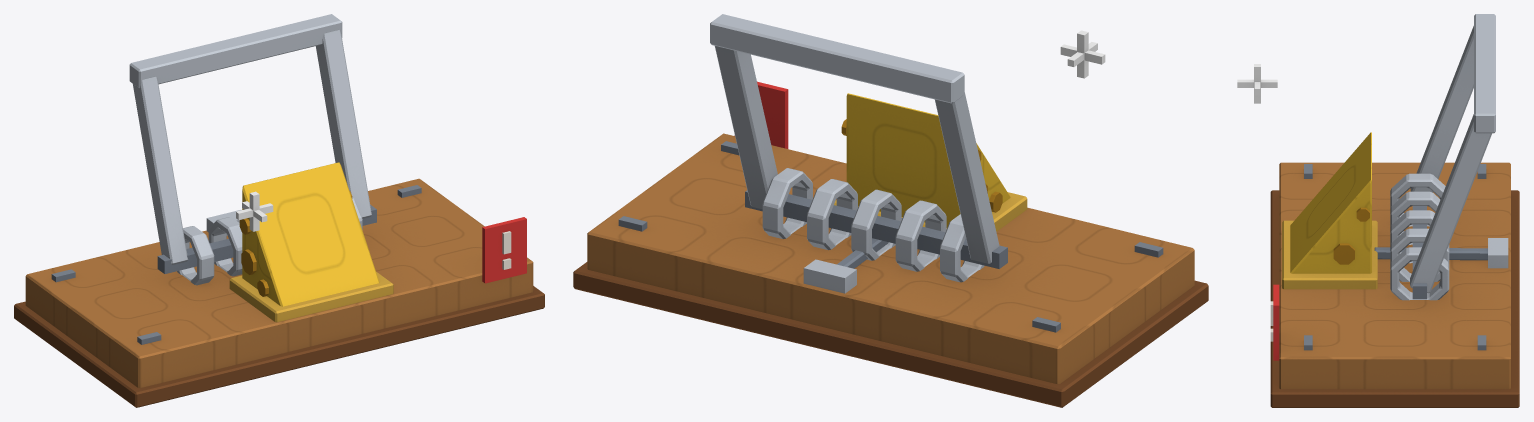
The model's file is GiantMousetrap.fbx.
3 renders of one model, left to right at view 1: azimuth 30°, elevation 25°; view 2: azimuth 150°, elevation 25°; view 3: azimuth 270°, elevation 25°, orthographic. The views are drawn at different scales.
Parts seen in each view (by area): view 1: Art_GiantMousetrap; view 2: Art_GiantMousetrap; view 3: Art_GiantMousetrap.
Part boxes in pixels (x1,y1,x2,y2): Art_GiantMousetrap: (14,14,544,407); Art_GiantMousetrap: (573,14,1208,407); Art_GiantMousetrap: (1237,14,1519,407).
Size of the model in its own units: 3.32 by 1.86 by 1.95.
